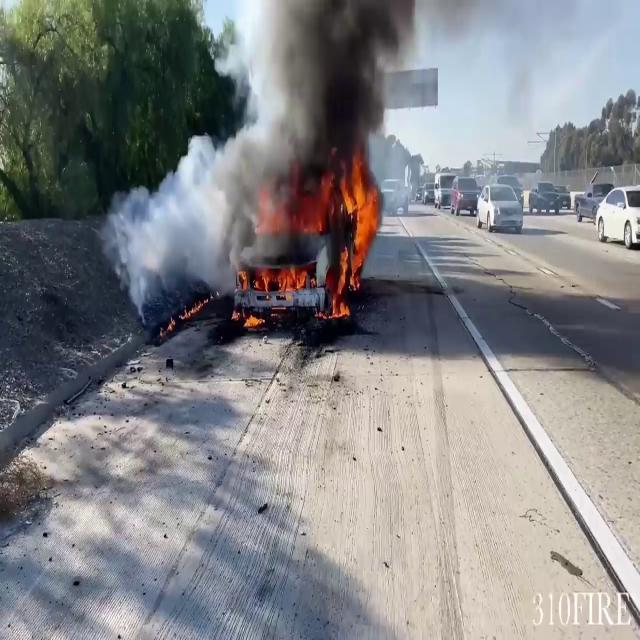Fire: (330, 152, 380, 311)
Smoke: (234, 0, 423, 206), (108, 125, 258, 321)
